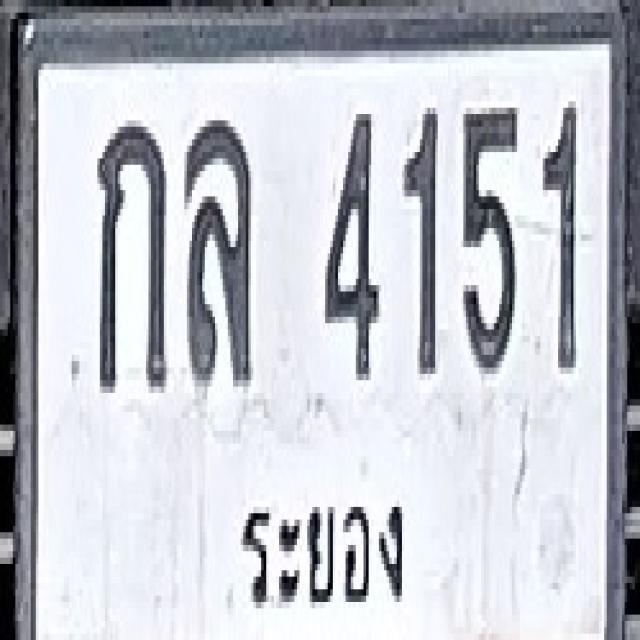1: (402, 101, 438, 374), (540, 98, 576, 371)
4: (322, 105, 379, 377)
5: (461, 98, 517, 371)
A01: (96, 117, 165, 390)
A36: (183, 114, 252, 380)
RYG: (234, 471, 412, 622)
